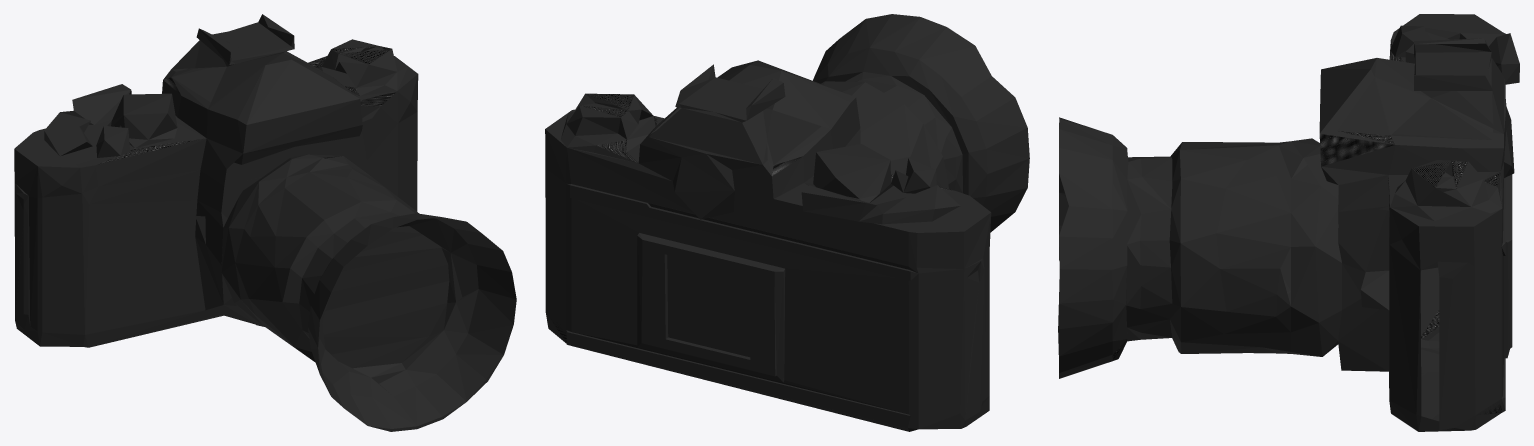
The model's file is model_align.obj.
The picture shows the model from 3 angles, left to right: view 1: azimuth 30°, elevation 25°; view 2: azimuth 150°, elevation 25°; view 3: azimuth 270°, elevation 25°; orthographic projection. The views are drawn at different scales.
Bounding box in the file's own units: 0.1972 × 0.133 × 0.1783.
6 materials, 6 textured.
